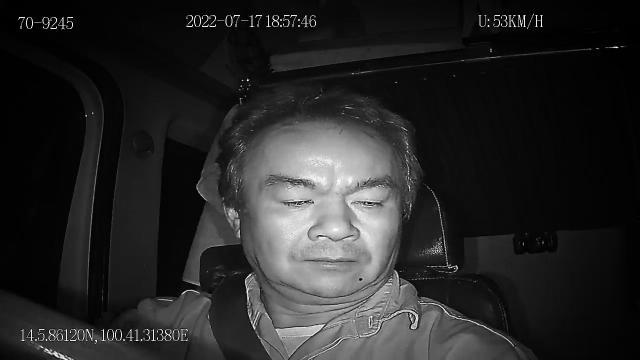SafeDriving: (265, 184, 323, 214), (341, 185, 396, 215)
Seatbelt: (207, 270, 276, 360)
